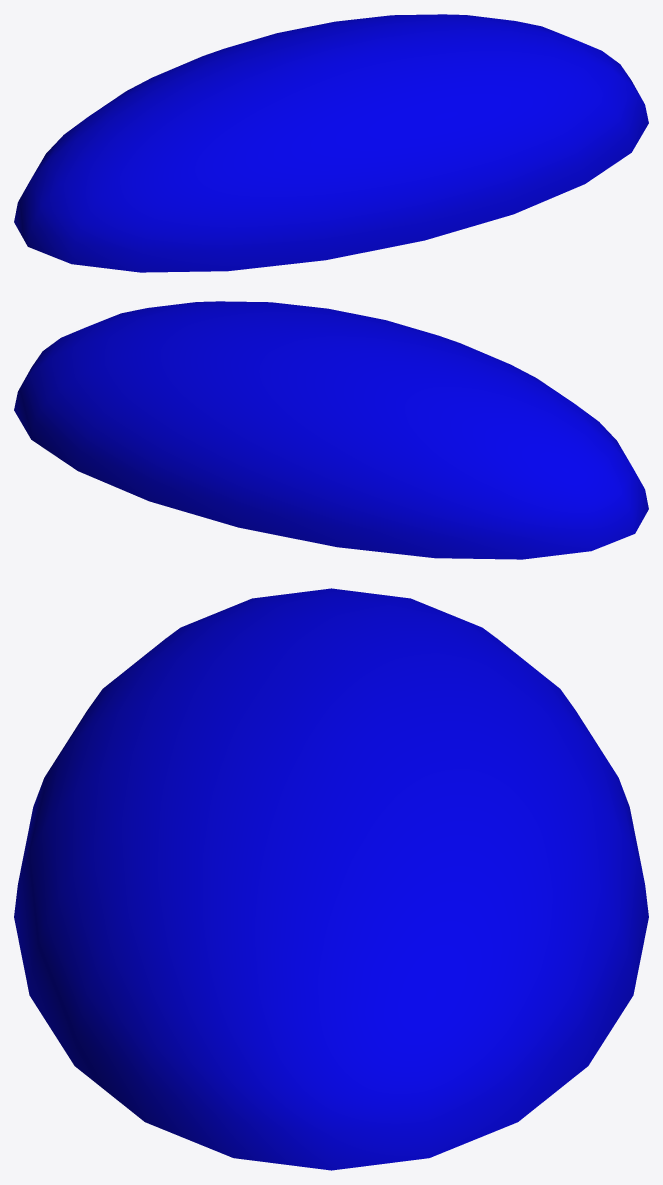
File: Mouse.fbx
3 renders of one model, top to bottom at view 1: azimuth 30°, elevation 25°; view 2: azimuth 150°, elevation 25°; view 3: azimuth 270°, elevation 25°, orthographic. The views are drawn at different scales.
Parts seen in each view (by area): view 1: pSphere1; view 2: pSphere1; view 3: pSphere1.
Boxes of the visible parts, x1,y1,x2,y2 form: pSphere1: [14, 14, 648, 272]; pSphere1: [14, 301, 648, 559]; pSphere1: [14, 588, 648, 1170].
Size of the model in its own units: 0.2151 by 0.0416 by 0.1139.
